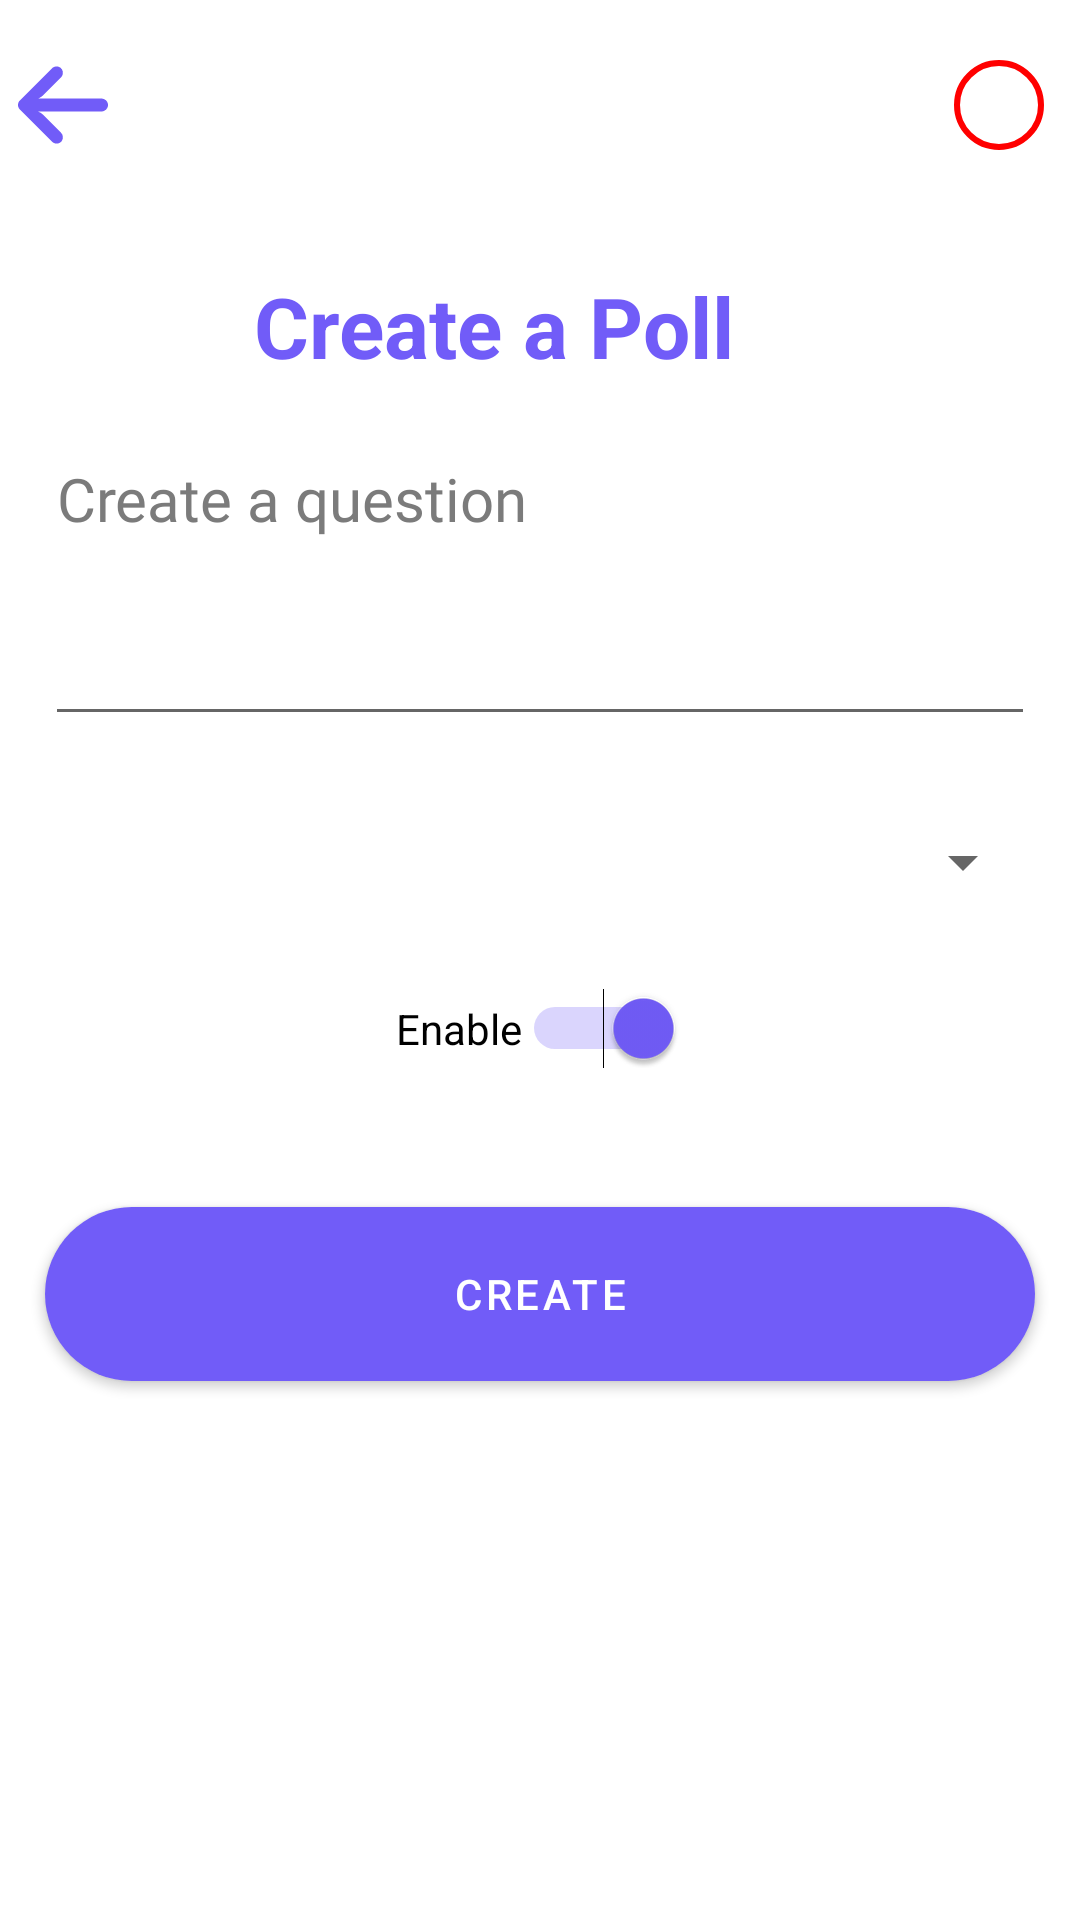

Where to tap for icons on this 1080px x 1920px app screen, as (x,y):
arrow: (63,105)
